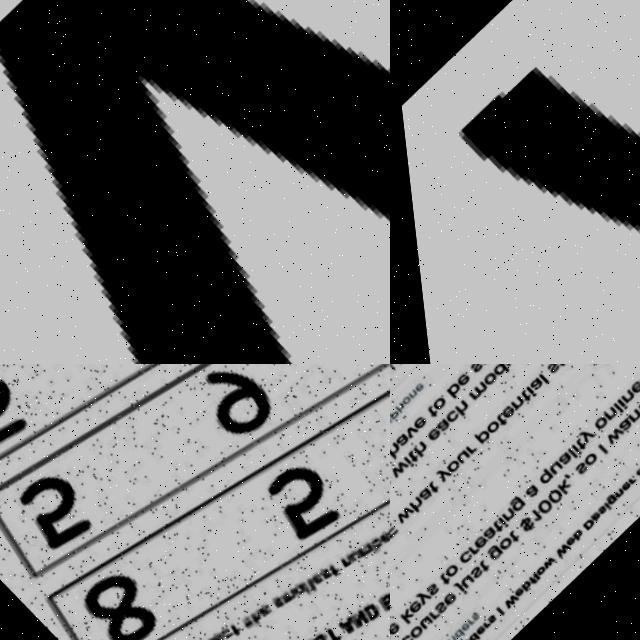5: (237, 448, 355, 563), (0, 458, 103, 571), (0, 364, 44, 468)
7: (390, 0, 640, 364)
8: (43, 554, 169, 640)
9: (165, 364, 296, 468)
V: (0, 0, 390, 364)
